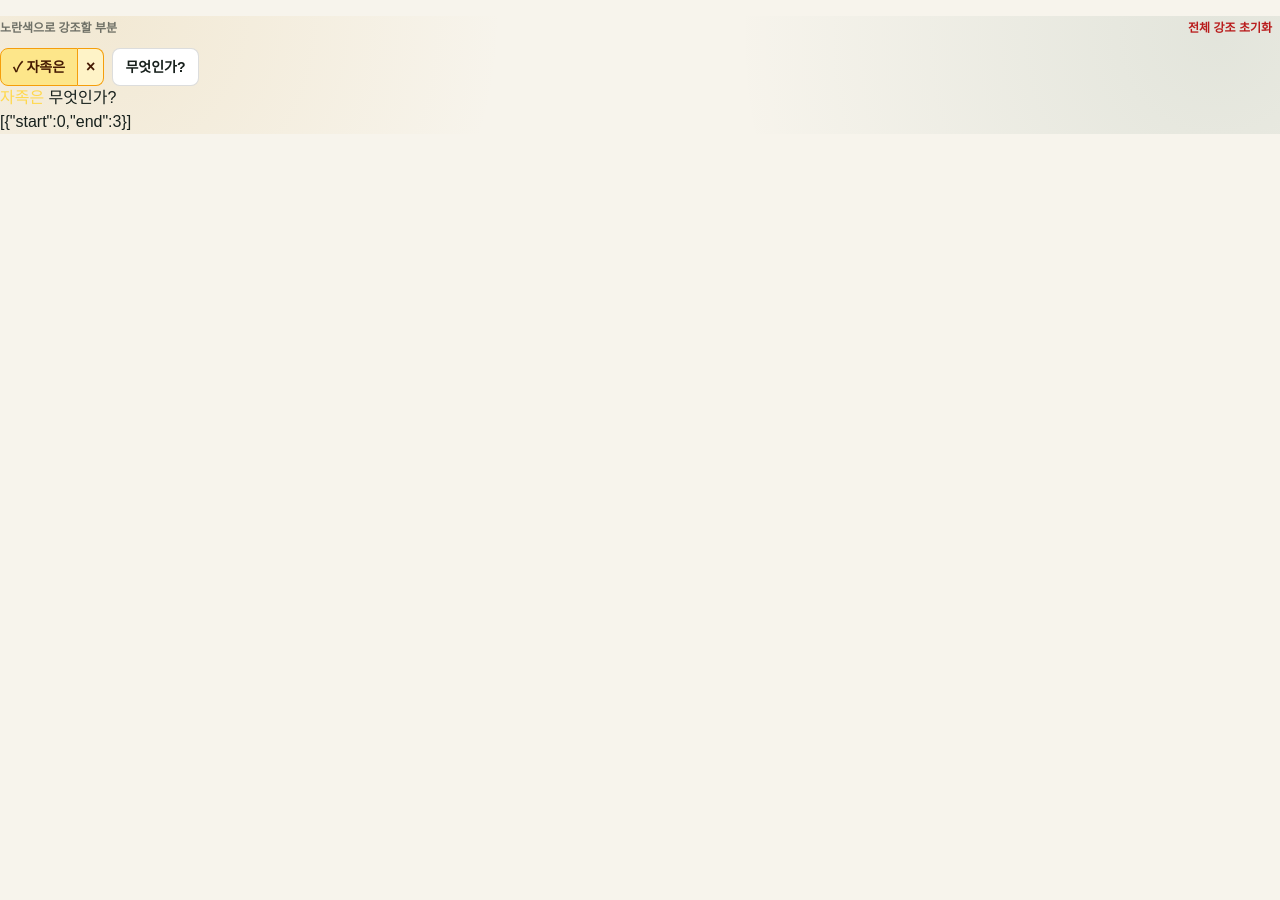
it: title highlight editor › opens the detail dialog, selects a partial character range, applies it, and restores focus
The width and height of the screenshot is (1280, 900).
Click the button with aria-label "자족은, 전체 강조됨" at (39,67), box [0,48,78,86]
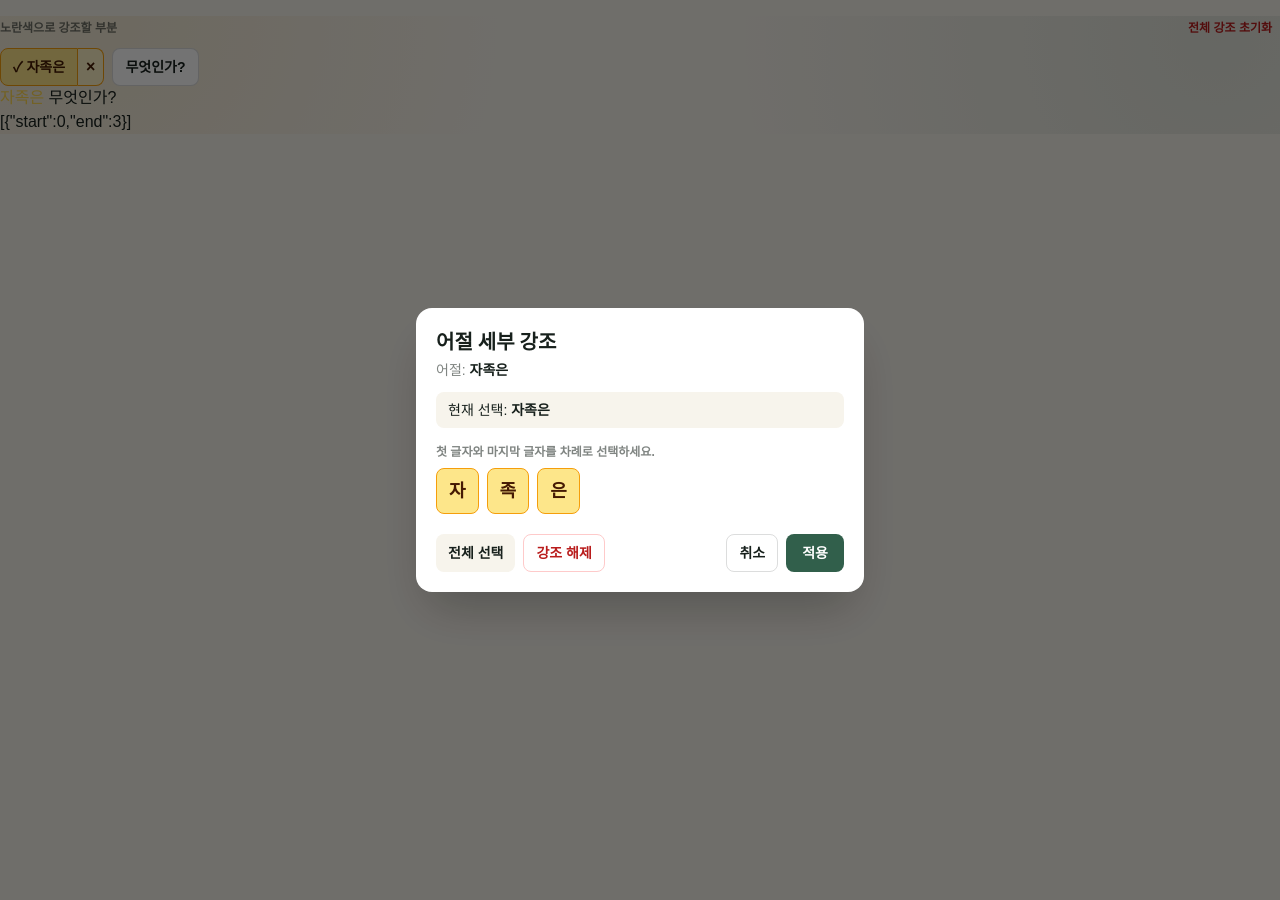
Click the button named "자, 강조 선택됨" at (457,491), box [436,468,479,514]
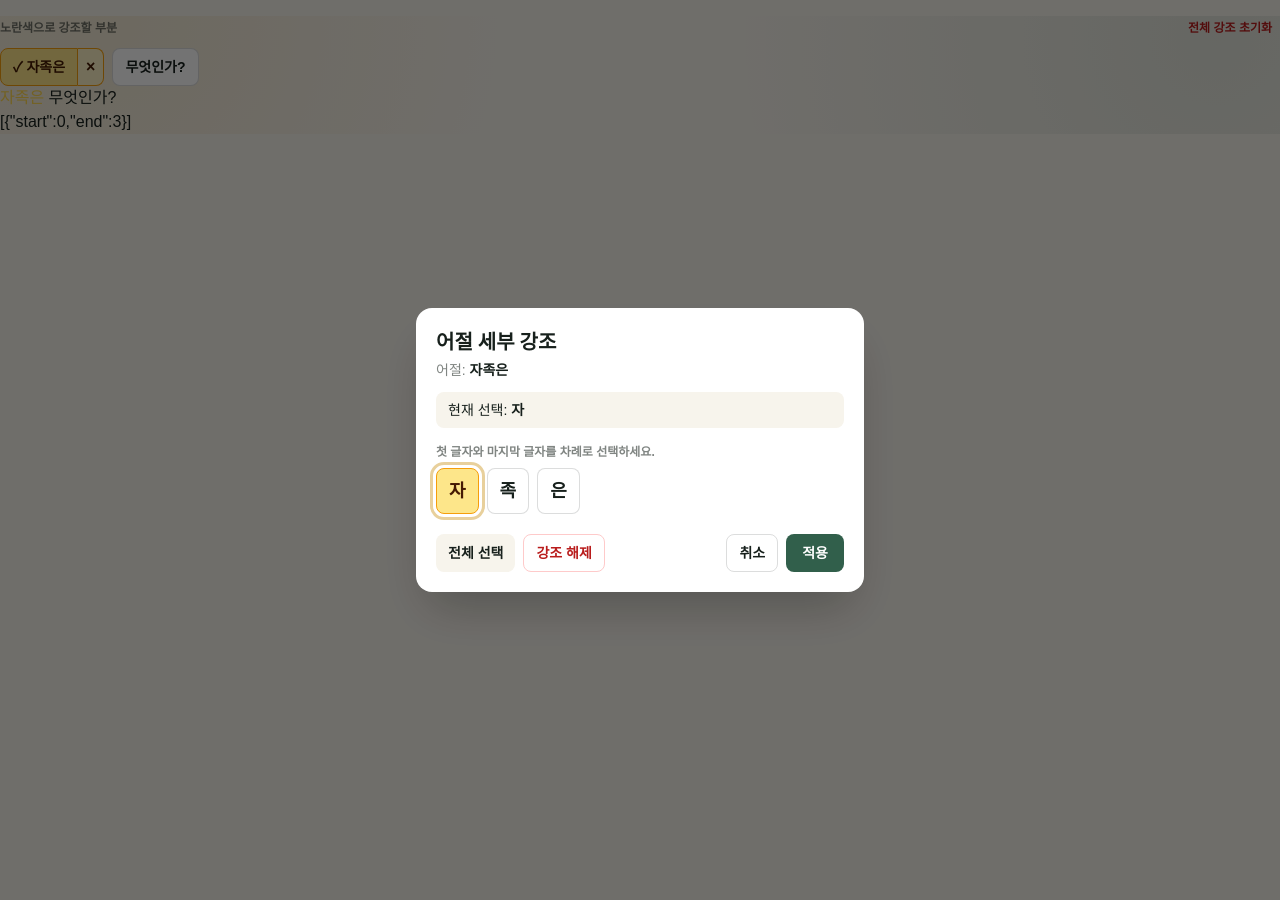
Click the button named "족, 강조 선택 안 됨" at (508,491), box [487,468,529,514]
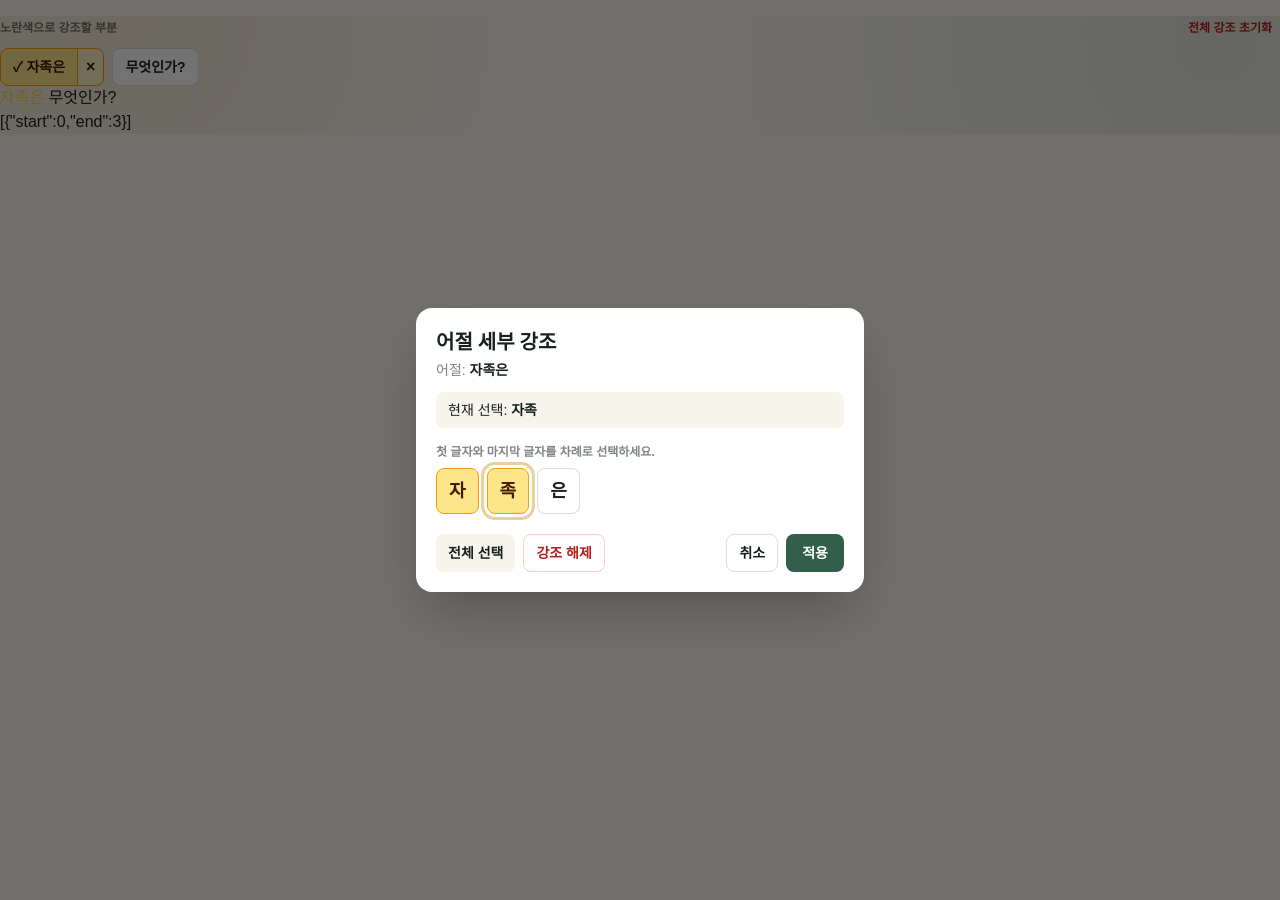
Click the button "적용" at (815,553), box [786,534,844,572]
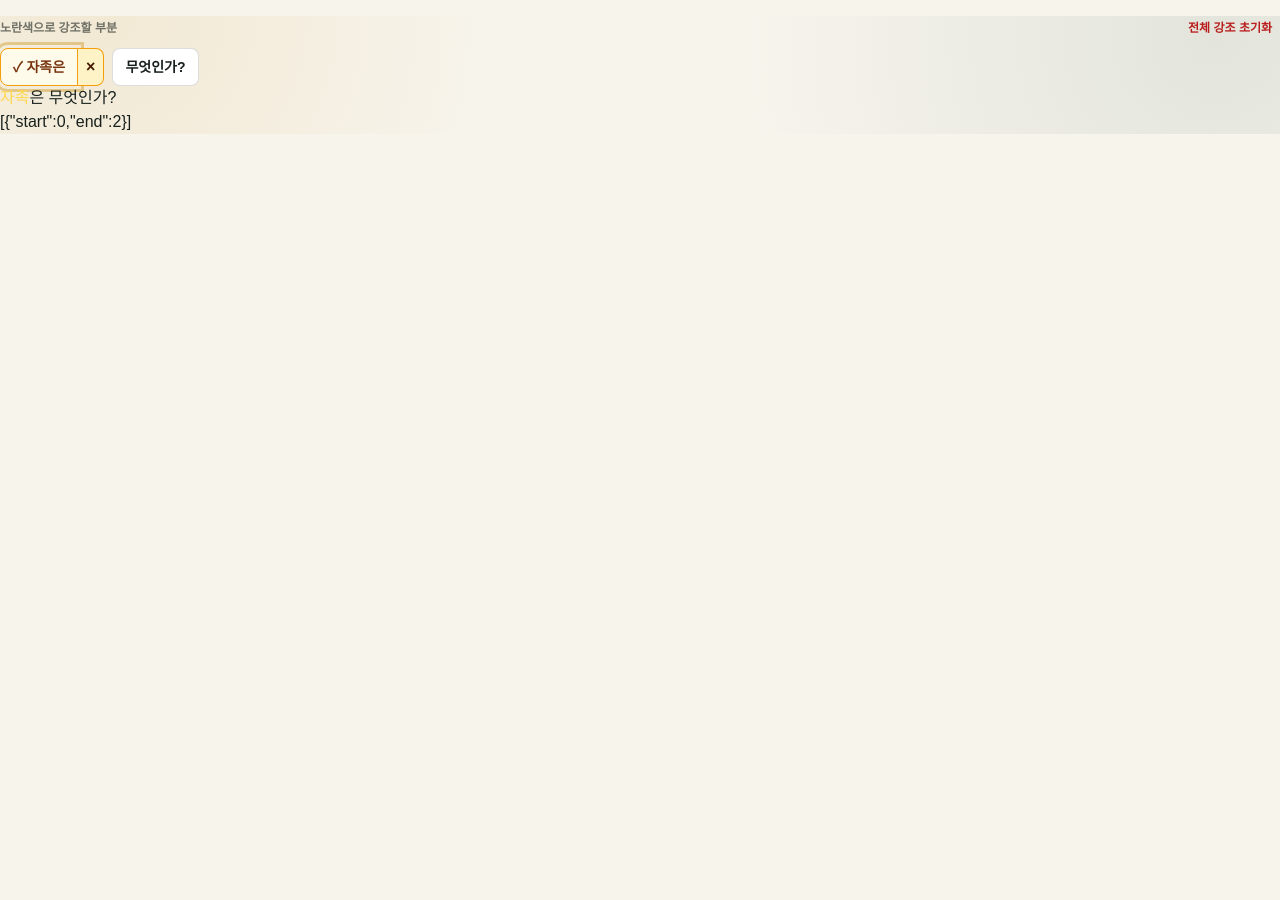
Expected: the text with test id "ranges-json" reads "[{\"start\":0,\"end\":2}]", [0,113,131,130]
